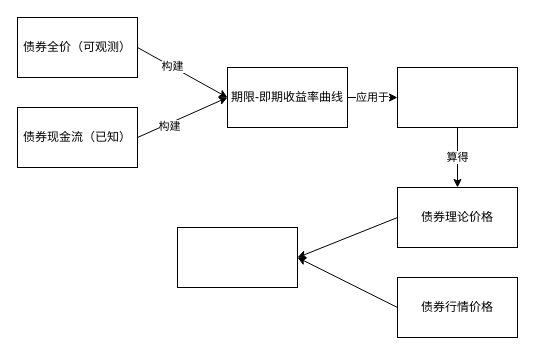
Image size: 535x355. Some labels were removed from this diagram. The shapes that lost their labels are listed below. From the top down, each one's centre as x and y in pixels, then its label:
At [457,97]: "债券现金流".
At [237,257]: "决策".
